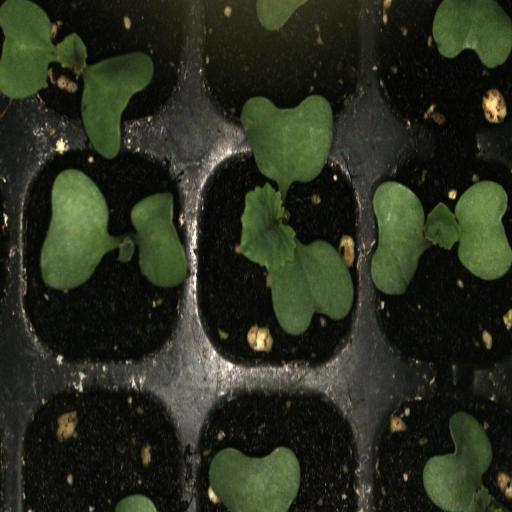seedling: (190, 132, 366, 372), (16, 135, 192, 372), (368, 136, 512, 374), (15, 0, 191, 136)
